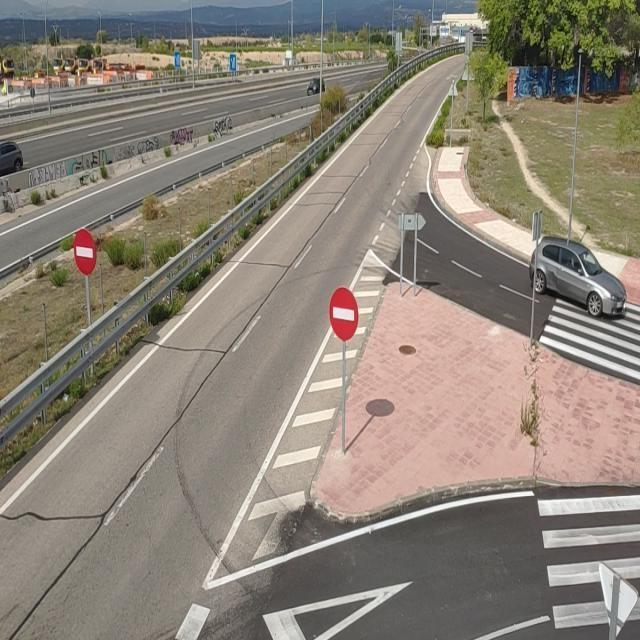Car: (508, 215, 634, 336), (0, 135, 34, 179), (296, 66, 336, 99)
